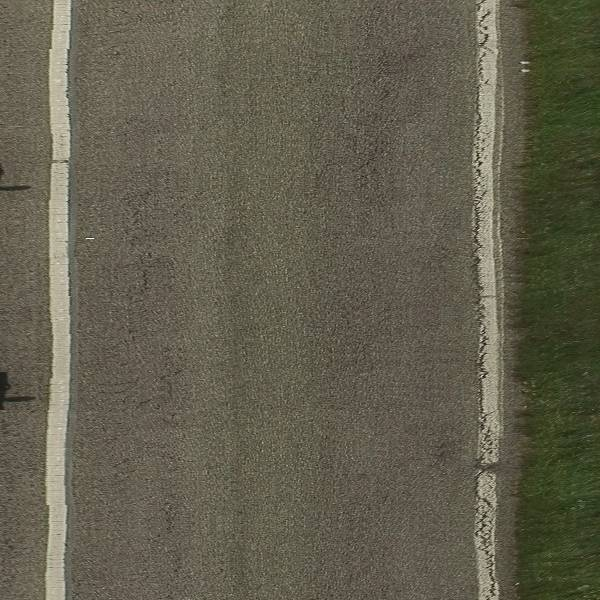road_damage: (462, 204, 492, 590), (139, 349, 197, 539)
